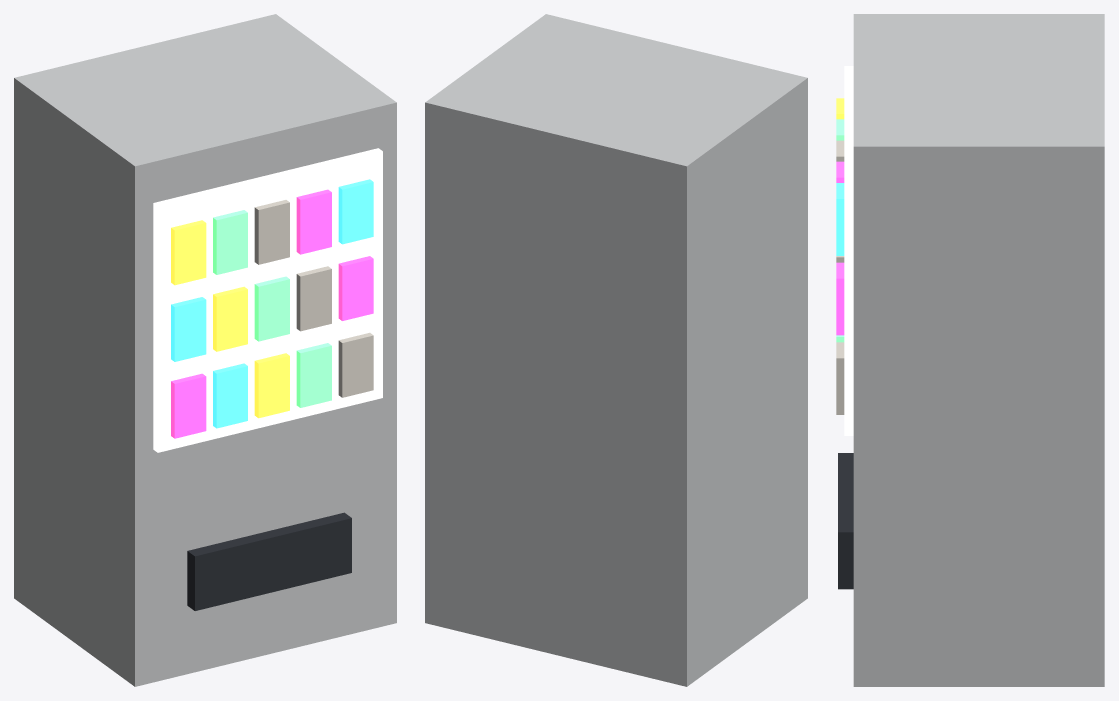
The model's file is automat.glb.
3 views of the same model, side by side, from view 1: azimuth 30°, elevation 25°; view 2: azimuth 150°, elevation 25°; view 3: azimuth 270°, elevation 25° (orthographic). The views are drawn at different scales.
Visible parts, largest first — view 1: automat; view 2: automat; view 3: automat.
Part boxes in pixels (x1,y1,x2,y2): automat: [14, 14, 396, 686]; automat: [425, 14, 807, 686]; automat: [836, 14, 1104, 686].
Bounding box in the file's own units: 1 × 1.9 × 0.855.
